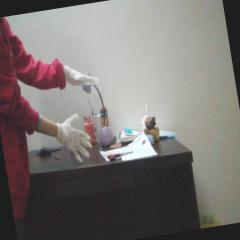gloved: (57, 112, 96, 165), (64, 59, 101, 88)
